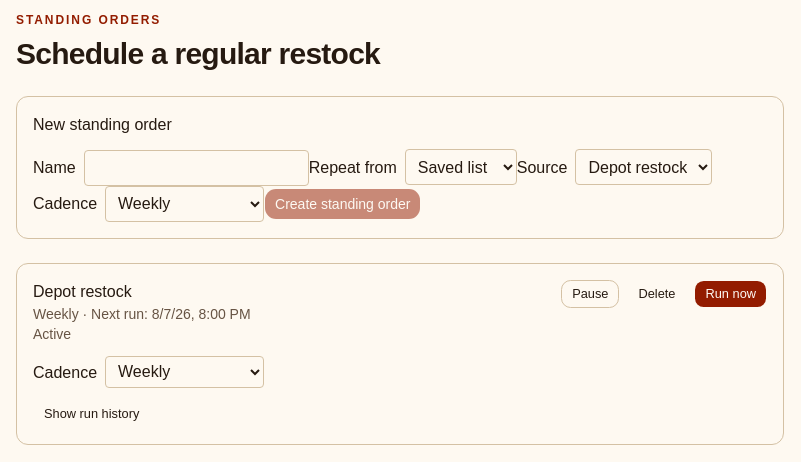
Scenario: StandingOrdersPage › deletes a standing order from its management card
Step 1. Click the button "Delete" → click(657, 294), box x1=628 y1=280 x2=686 y2=308
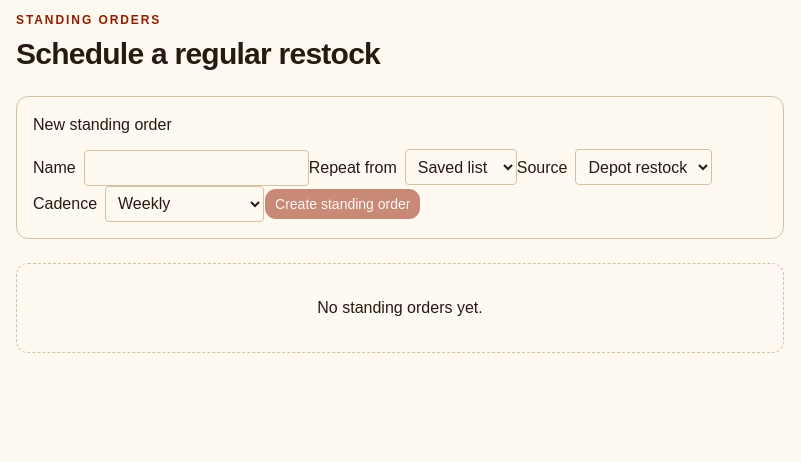
Now the text "No standing orders yet." is shown, box x1=16 y1=262 x2=784 y2=352
